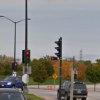Traffic light: (54, 32, 68, 69)
